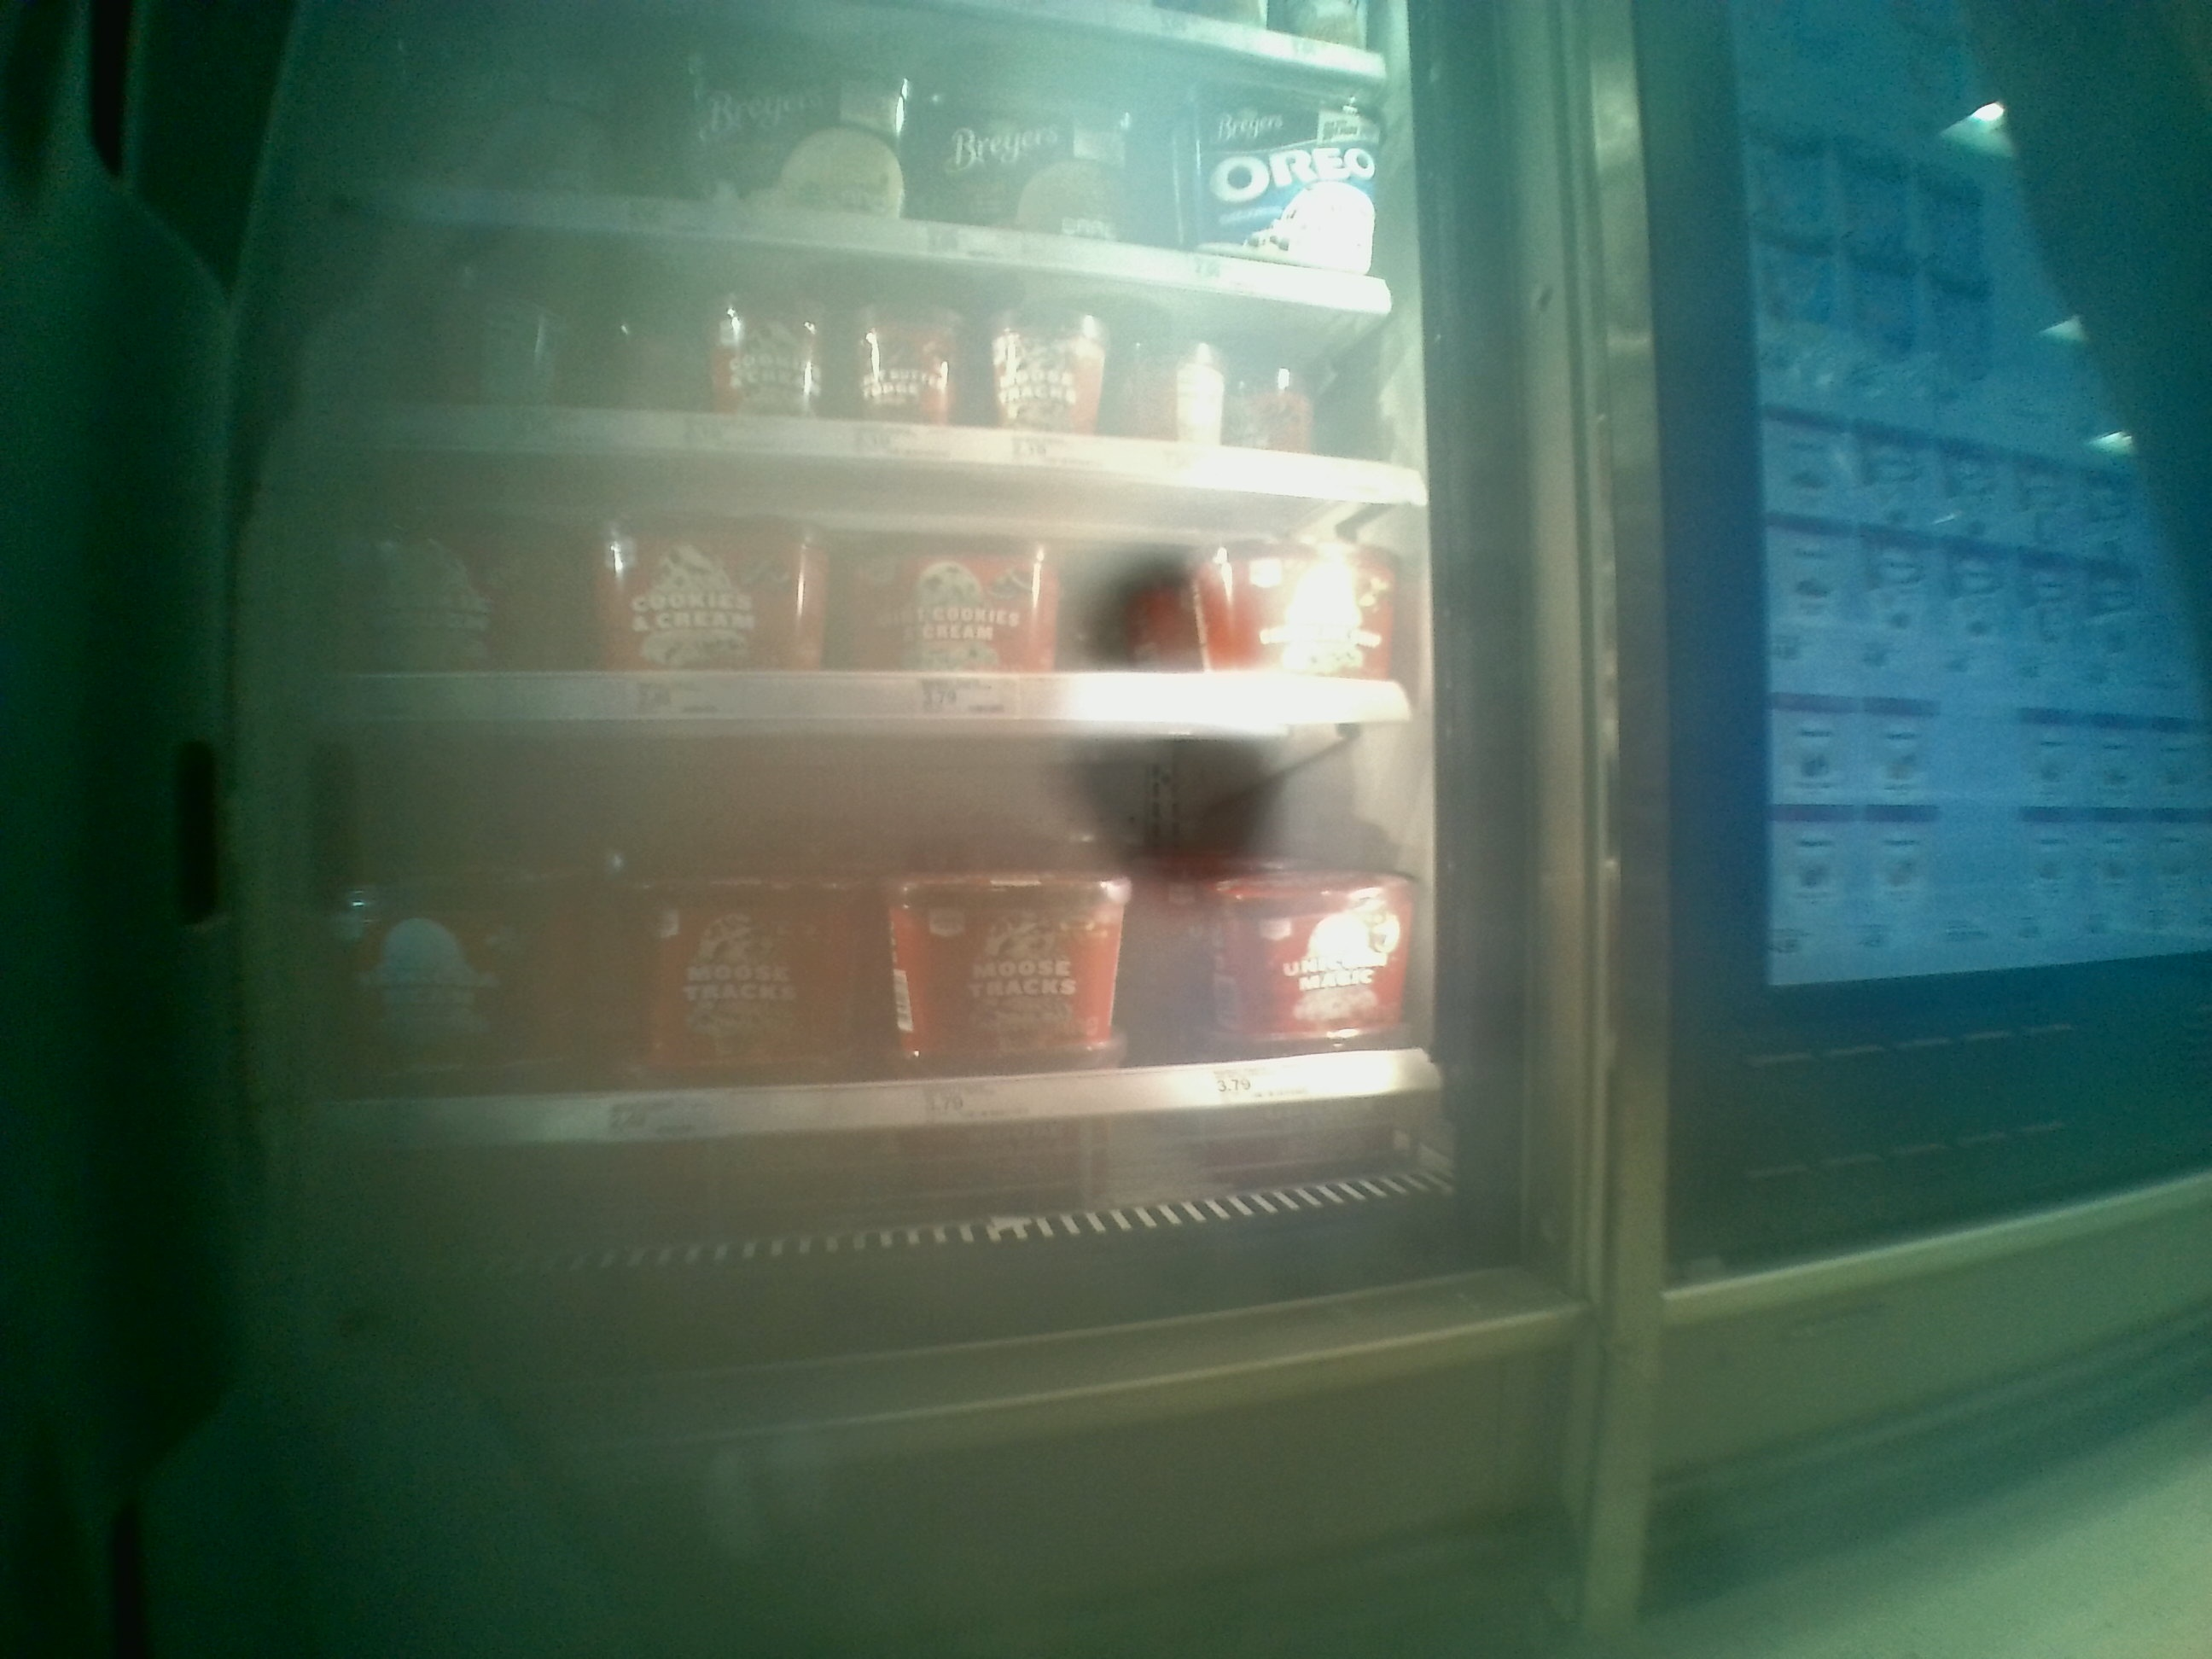shelf: (308, 732, 1447, 1171), (329, 211, 1428, 507), (310, 460, 1425, 727)
